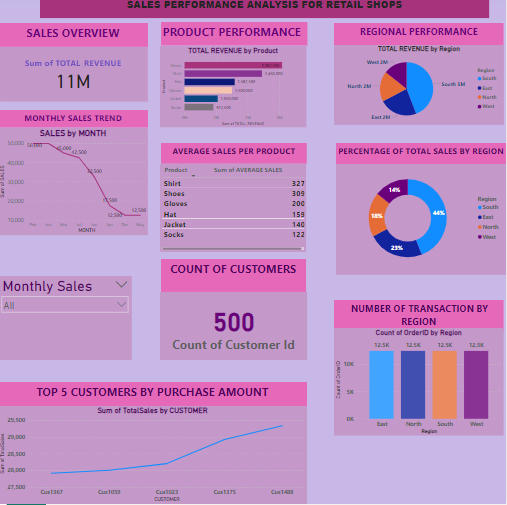

Layout of this report page (visuals, bound fields, positions):
{"tool":"powerbi","page":{"name":"Page 1","canvas":[1450,1450],"ordinal":0},"visuals":[{"type":"cardVisual","fields":{"Data":["Sum(SalesData (2).TOTAL_REVENUE)"]},"box":[0,144.7,428.1,156.5],"z":0},{"type":"textbox","box":[119.9,0,1281.6,62.8],"z":1000},{"type":"textbox","box":[0,76.8,428.1,67.9],"z":2000},{"type":"lineChart","title":"SALES by MONTH","fields":{"Category":["Sheet2.MONTH"],"Y":["Sum(Sheet2.SALES)"]},"box":[0,375.7,428.4,305.5],"z":3000},{"type":"textbox","box":[0,324.8,428.1,50.2],"z":4000},{"type":"textbox","box":[465.2,75.6,418.1,67.1],"z":5000},{"type":"clusteredBarChart","title":"TOTAL REVENUE by Product","fields":{"Category":["SalesData (2).Product"],"Y":["Sum(SalesData (2).TOTAL_REVENUE)"]},"box":[463.7,142.4,417.8,231.9],"z":6000},{"type":"tableEx","title":"AVERAGE SALES PER PRODUCT","fields":{"Values":["SalesData.Product","Sum(SalesData.AVERAGE SALES)"]},"box":[462.4,479.5,416.7,251.2],"z":7000},{"type":"textbox","box":[466.5,419.3,416.3,59.1],"z":8000},{"type":"textbox","box":[959.6,76.8,484.3,67.9],"z":9000},{"type":"pieChart","title":" TOTAL REVENUE by Region","fields":{"Category":["SalesData (2).Region"],"Y":["Sum(SalesData (2).TOTAL_REVENUE)"]},"box":[959.1,139.9,485.2,228.3],"z":10000},{"type":"donutChart","title":"Percentage Sum of TOTAL REVENUE by Region","fields":{"Category":["SalesData (2).Region"],"Y":["Sum(SalesData (2).TOTAL_REVENUE)"]},"box":[964.8,451,485.2,345.4],"z":11000},{"type":"textbox","box":[964.8,419.6,485.2,59.9],"z":12000},{"type":"textbox","box":[959.6,868.1,484.3,94.5],"z":13000},{"type":"clusteredColumnChart","fields":{"Category":["SalesData (2).Region"],"Y":["CountNonNull(SalesData (2).OrderID)"]},"box":[959.6,947.8,484.3,307.1],"z":14000},{"type":"card","fields":{"Values":["Count(SalesData (3).Customer Id)"]},"box":[462.4,844.9,419.6,194.1],"z":15000},{"type":"textbox","box":[465.3,750.7,413.9,94.2],"z":16000},{"type":"textbox","box":[0,1101.8,882,68.5],"z":17000},{"type":"lineChart","fields":{"Category":["Sheet5.CUSTOMER"],"Y":["Sum(Sheet5.TotalSales)"]},"box":[0,1170.3,882,279.7],"z":18000},{"type":"slicer","fields":{"Values":["Sheet2.MONTH","Sheet2.SALES"]},"box":[0,799.2,382.5,239.8],"z":19000}]}

Visuals, with their boxes in screenshot pixels (x1, y1, x2, y2), scaled from the page's 1450x1450 canvas onto the 507x505 screenshot:
cardVisual - Sum(SalesData (2).TOTAL_REVENUE): <box>0,50,150,105</box>
textbox: <box>42,0,490,22</box>
textbox: <box>0,27,150,50</box>
"SALES by MONTH" lineChart: <box>0,131,150,237</box>
textbox: <box>0,113,150,131</box>
textbox: <box>163,26,309,50</box>
"TOTAL REVENUE by Product" clusteredBarChart: <box>162,50,308,130</box>
"AVERAGE SALES PER PRODUCT" tableEx: <box>162,167,307,254</box>
textbox: <box>163,146,309,167</box>
textbox: <box>336,27,505,50</box>
" TOTAL REVENUE by Region" pieChart: <box>335,49,505,128</box>
"Percentage Sum of TOTAL REVENUE by Region" donutChart: <box>337,157,506,277</box>
textbox: <box>337,146,506,167</box>
textbox: <box>336,302,505,335</box>
clusteredColumnChart - SalesData (2).Region x CountNonNull(SalesData (2).OrderID): <box>336,330,505,437</box>
card - Count(SalesData (3).Customer Id): <box>162,294,308,362</box>
textbox: <box>163,261,307,294</box>
textbox: <box>0,384,308,408</box>
lineChart - Sheet5.CUSTOMER x Sum(Sheet5.TotalSales): <box>0,408,308,504</box>
slicer - Sheet2.MONTH x Sheet2.SALES: <box>0,278,134,362</box>
